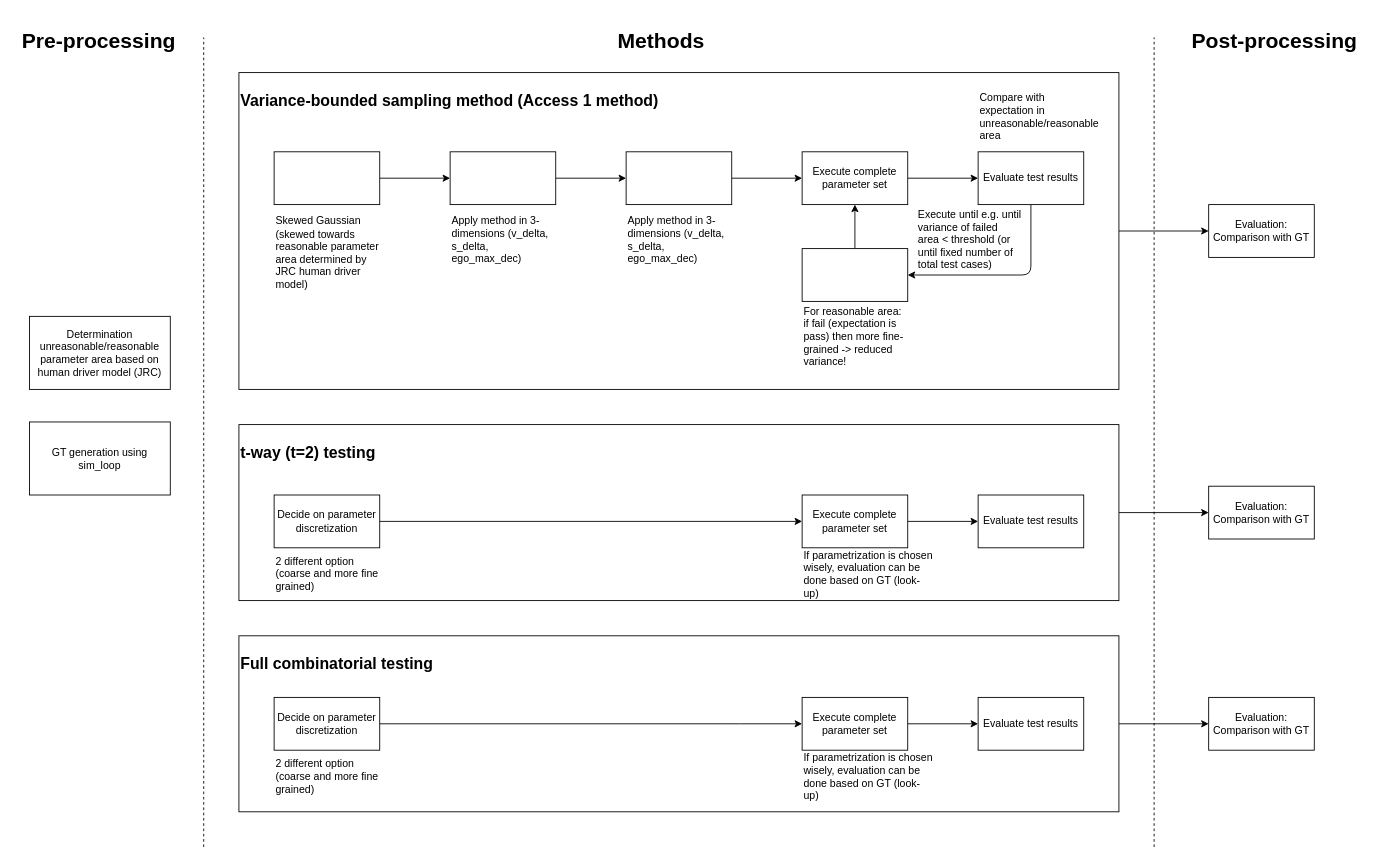
The diagram is 1382 pixels wide and 863 high, and some of its shapes have lost their labels. The centre of each missing label's shape, as x and y in pixels:
Generate additional test cases/parameter set: pixel 854 274
Generate parameter set (based on chosen parameter values, x1, x2, x3): pixel 678 178
Prior Design: pixel 326 178
Variance-bounded sampling (Access 1 method): pixel 502 178
